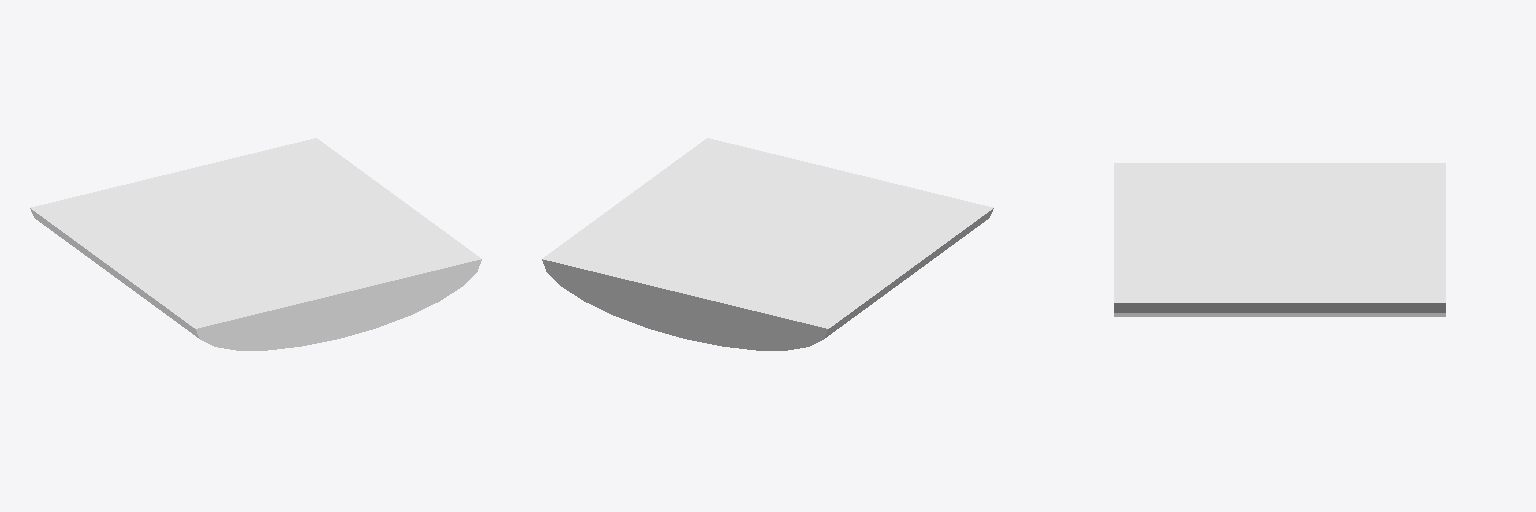
File: ceilingLight.obj
3 views of the same model, side by side, from view 1: azimuth 30°, elevation 25°; view 2: azimuth 150°, elevation 25°; view 3: azimuth 270°, elevation 25° (orthographic).
Size of the model in its own units: 1 by 0.15 by 1.